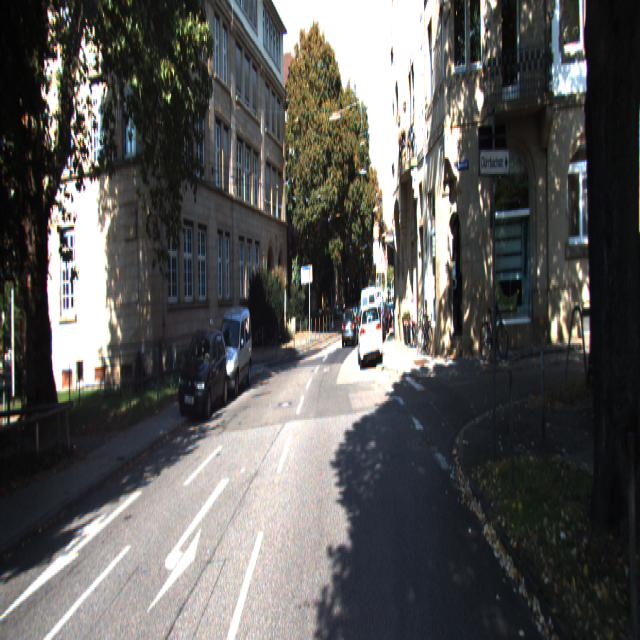Car: (174, 325, 230, 426), (210, 304, 253, 403), (357, 302, 382, 372), (360, 284, 378, 363), (341, 308, 358, 351)
